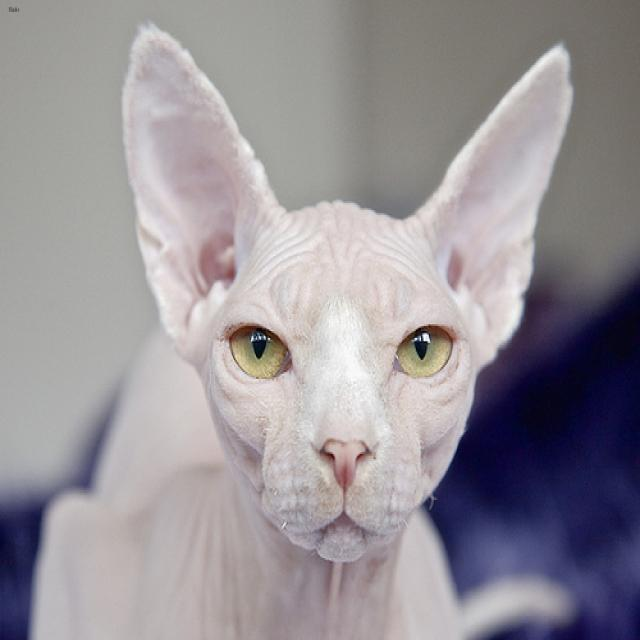Sphynx: (119, 22, 571, 562)
